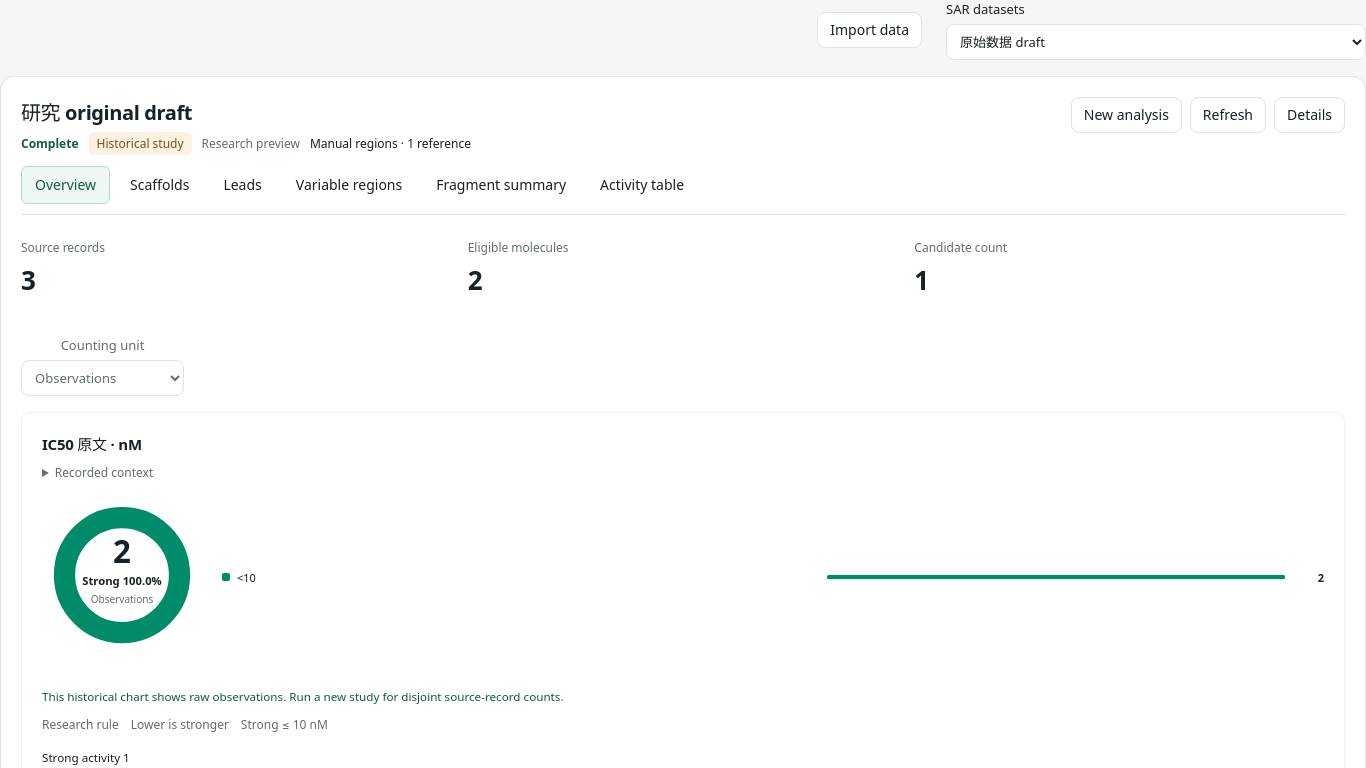
shows a current-profile conflict on the confirmation step instead of a silent disabled button
Click the button "New analysis" at (1126, 115), box [1071,97,1182,133]
(page scrolled)
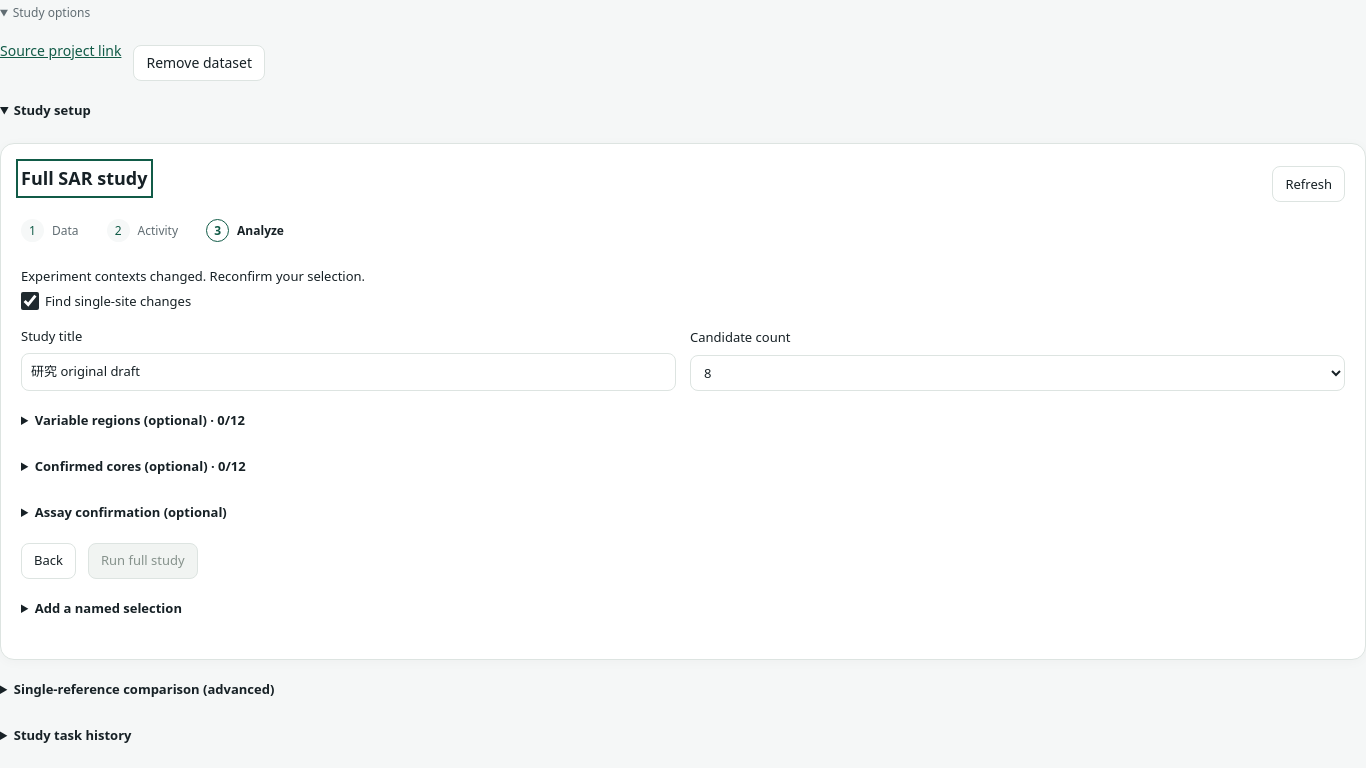
Result: the message shows "Experiment contexts changed" at [21,267,365,285]
Result: the button "Run full study" is disabled at [88,543,198,579]
